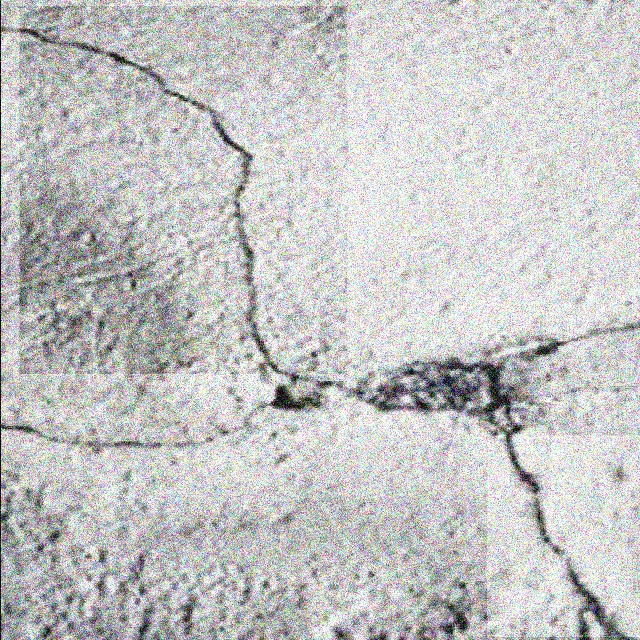SurfaceCrack: (6, 12, 328, 396), (344, 326, 628, 626)
